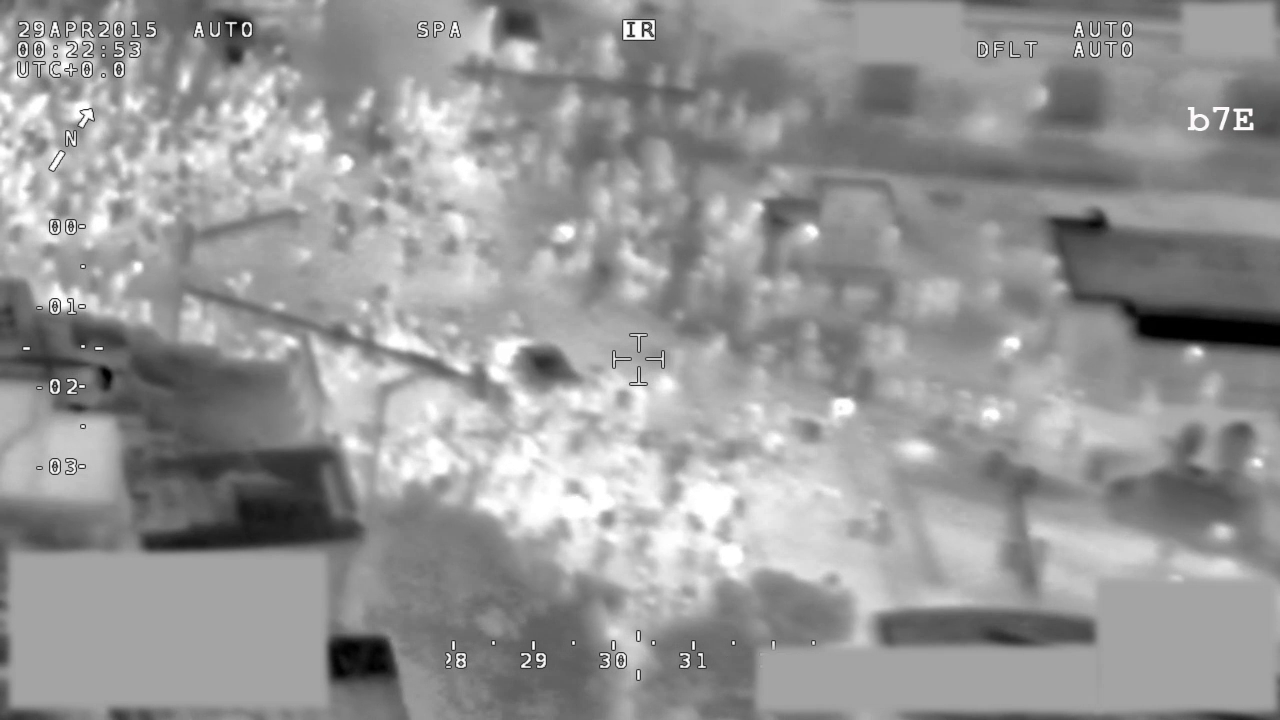vehicle: (1099, 414, 1265, 567), (490, 331, 588, 421)
